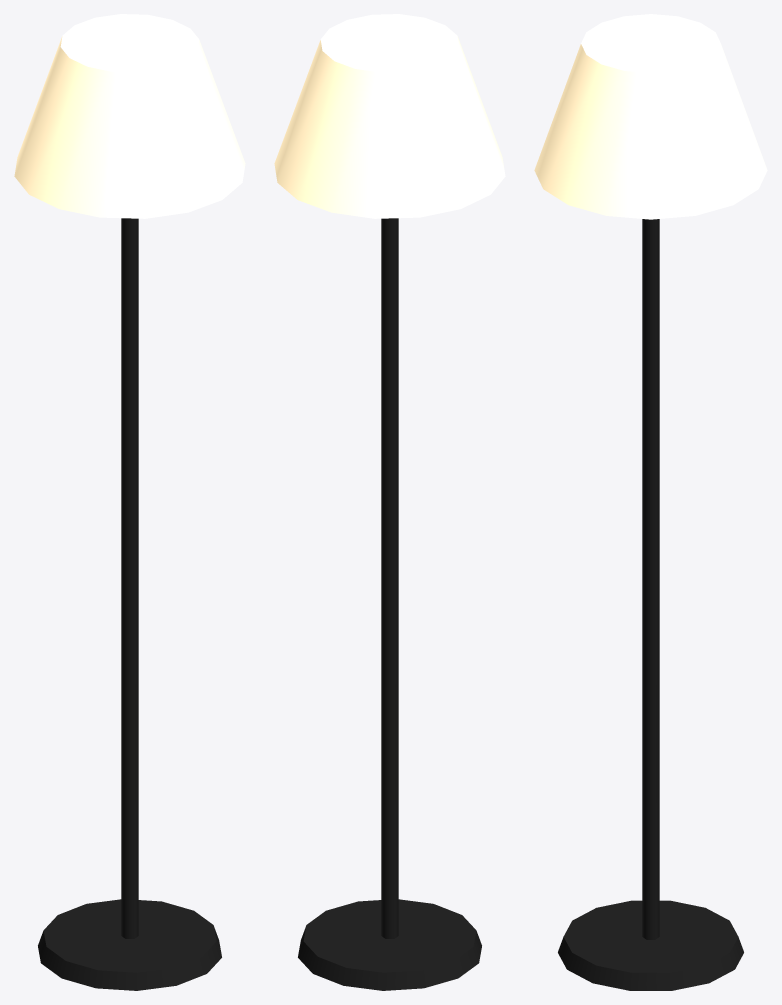
File: floor-lamp.glb
3 renders of one model, left to right at view 1: azimuth 30°, elevation 25°; view 2: azimuth 150°, elevation 25°; view 3: azimuth 270°, elevation 25°, orthographic.
Parts seen in each view (by area): view 1: floor-lamp; view 2: floor-lamp; view 3: floor-lamp.
Part boxes in pixels (x1,y1,x2,y2): floor-lamp: [14, 14, 245, 990]; floor-lamp: [274, 14, 505, 990]; floor-lamp: [534, 14, 767, 990].
Size of the model in its own units: 0.4 by 1.72 by 0.4.
